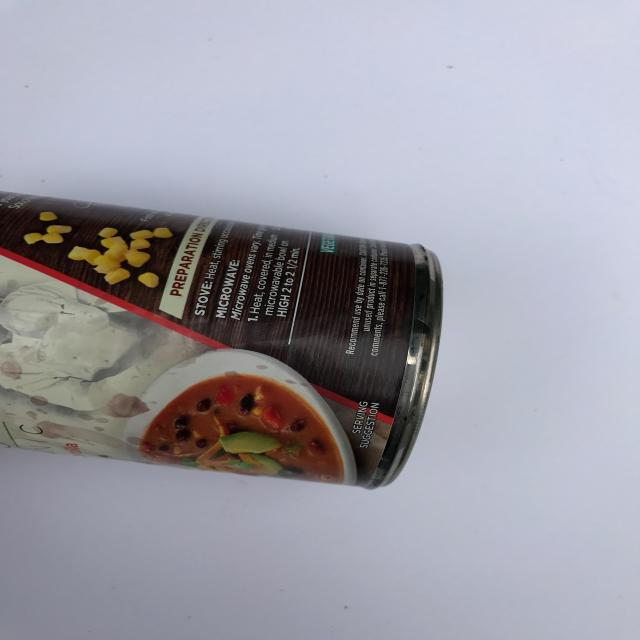metal: (2, 191, 448, 494)
